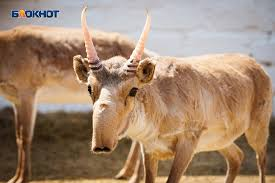saiga: (72, 5, 272, 183)
